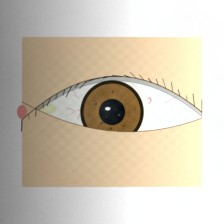pinguecula_lesion: (28, 93, 67, 124)
